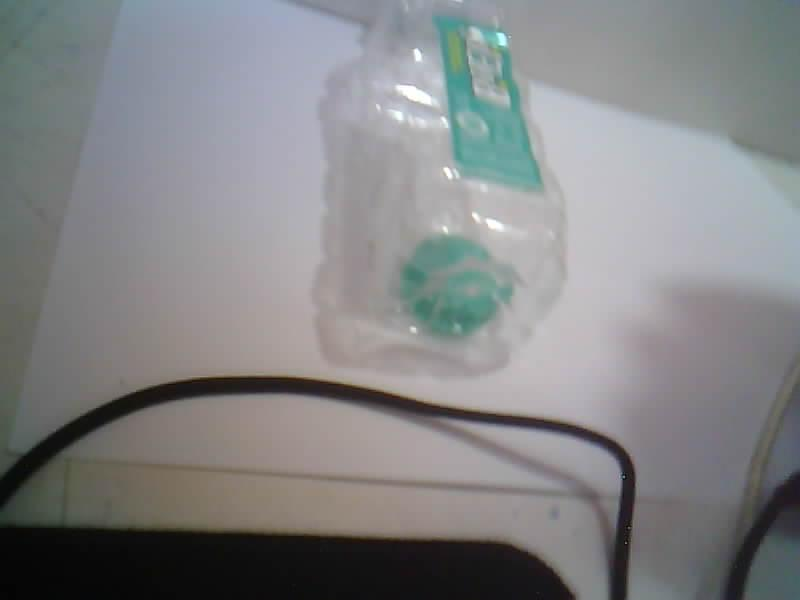non-biodegradable: (314, 0, 564, 371)
